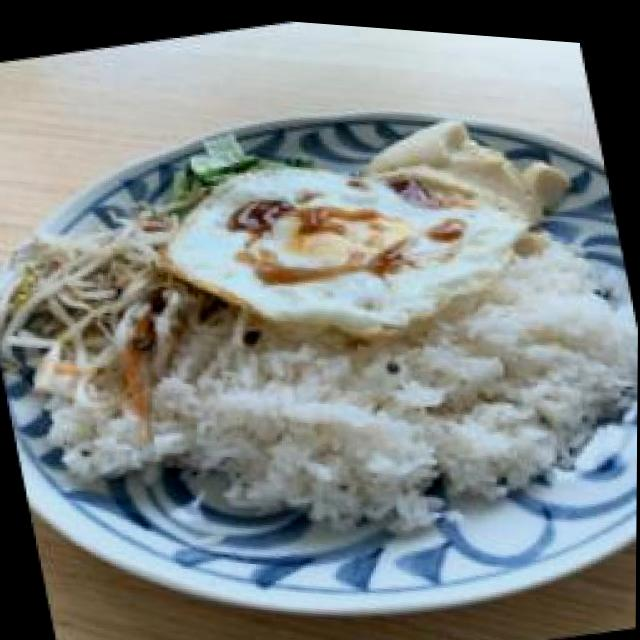fried_eggs: (188, 134, 504, 355)
mung_bean_sprouts: (0, 185, 191, 386)
rice: (142, 270, 618, 546)
